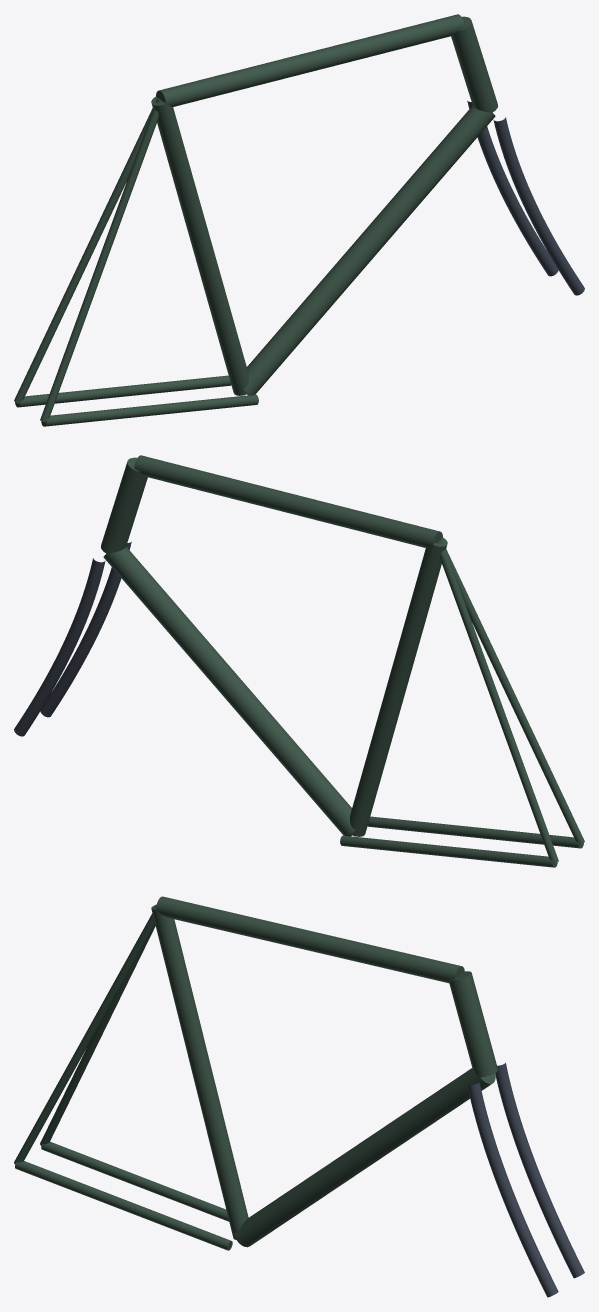
Rendered from skream-ranger-xl.glb.
3 renders of one model, top to bottom at view 1: azimuth 30°, elevation 25°; view 2: azimuth 150°, elevation 25°; view 3: azimuth 330°, elevation 25°, orthographic.
Parts seen in each view (by area): view 1: paint_down, paint_top, paint_seat, paint_seatstay_0.045, paint_seatstay_-0.045, fork_0.045, paint_chainstay_0.045, paint_chainstay_-0.045, paint_head, fork_-0.045; view 2: paint_down, paint_top, paint_seat, paint_seatstay_-0.045, paint_seatstay_0.045, fork_-0.045, paint_chainstay_-0.045, paint_chainstay_0.045, paint_head, fork_0.045; view 3: paint_down, paint_seat, paint_top, fork_0.045, fork_-0.045, paint_head, paint_chainstay_0.045, paint_seatstay_0.045, paint_chainstay_-0.045, paint_seatstay_-0.045.
Part boxes in pixels (bbox=[...]): paint_down: bbox=[243, 105, 495, 395]; paint_top: bbox=[156, 14, 464, 106]; paint_seat: bbox=[151, 96, 248, 395]; paint_seatstay_0.045: bbox=[40, 99, 162, 422]; paint_seatstay_-0.045: bbox=[14, 98, 160, 403]; fork_0.045: bbox=[493, 117, 584, 295]; paint_chainstay_0.045: bbox=[41, 394, 258, 426]; paint_chainstay_-0.045: bbox=[15, 375, 231, 407]; paint_head: bbox=[451, 16, 497, 112]; fork_-0.045: bbox=[467, 100, 558, 276]; paint_down: bbox=[103, 546, 355, 836]; paint_top: bbox=[134, 455, 442, 547]; paint_seat: bbox=[350, 537, 447, 836]; paint_seatstay_-0.045: bbox=[436, 540, 558, 863]; paint_seatstay_0.045: bbox=[438, 539, 584, 844]; fork_-0.045: bbox=[14, 558, 105, 736]; paint_chainstay_-0.045: bbox=[340, 835, 557, 867]; paint_chainstay_0.045: bbox=[367, 816, 583, 848]; paint_head: bbox=[101, 457, 147, 553]; fork_0.045: bbox=[40, 541, 131, 717]; paint_down: bbox=[234, 1068, 495, 1247]; paint_seat: bbox=[151, 904, 248, 1239]; paint_top: bbox=[156, 896, 464, 983]; fork_0.045: bbox=[467, 1082, 558, 1297]; fork_-0.045: bbox=[495, 1062, 584, 1278]; paint_head: bbox=[449, 971, 497, 1077]; paint_chainstay_0.045: bbox=[15, 1161, 232, 1250]; paint_seatstay_0.045: bbox=[14, 906, 156, 1164]; paint_chainstay_-0.045: bbox=[41, 1141, 229, 1221]; paint_seatstay_-0.045: bbox=[40, 925, 155, 1145].
Size of the model in its own units: 1.08 by 0.6268 by 0.112.
